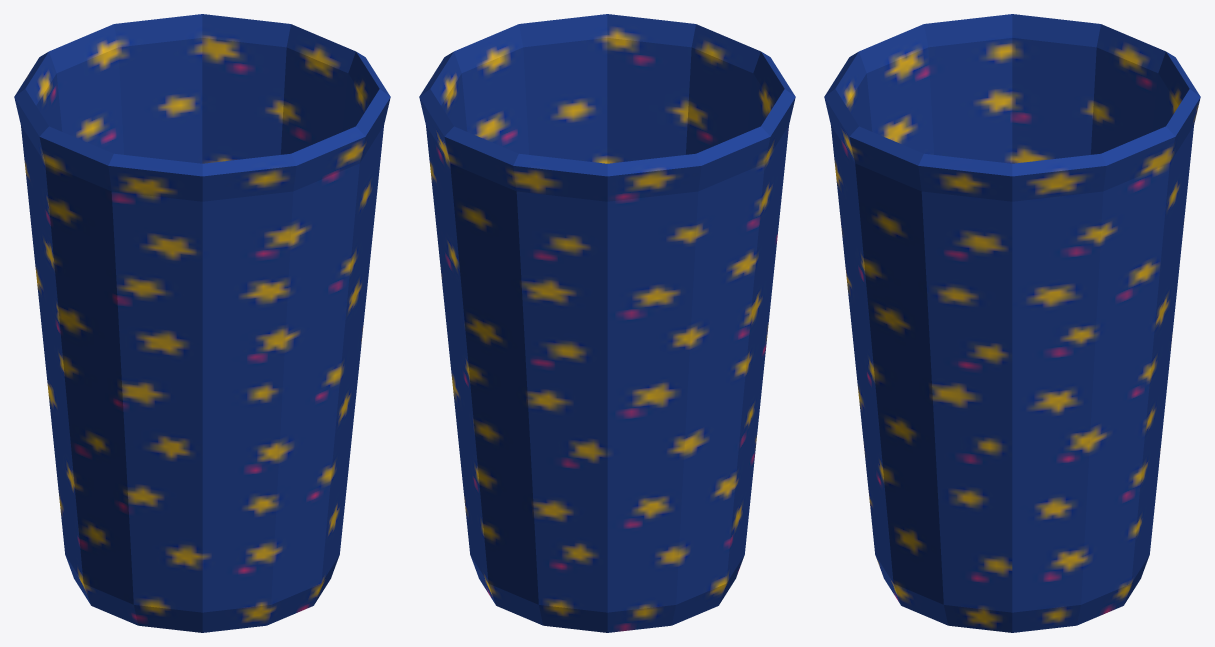
Rendered from party_cup_stars.glb.
3 renders of one model, left to right at view 1: azimuth 30°, elevation 25°; view 2: azimuth 150°, elevation 25°; view 3: azimuth 270°, elevation 25°, orthographic.
Parts seen in each view (by area): view 1: party_cup_stars_body; view 2: party_cup_stars_body; view 3: party_cup_stars_body.
Boxes of the visible parts, x1,y1,x2,y2 form: party_cup_stars_body: (14,14,390,632); party_cup_stars_body: (419,14,795,632); party_cup_stars_body: (824,14,1200,632).
Bounding box in the file's own units: 0.085 × 0.122 × 0.085.
1 material, 1 textured.
